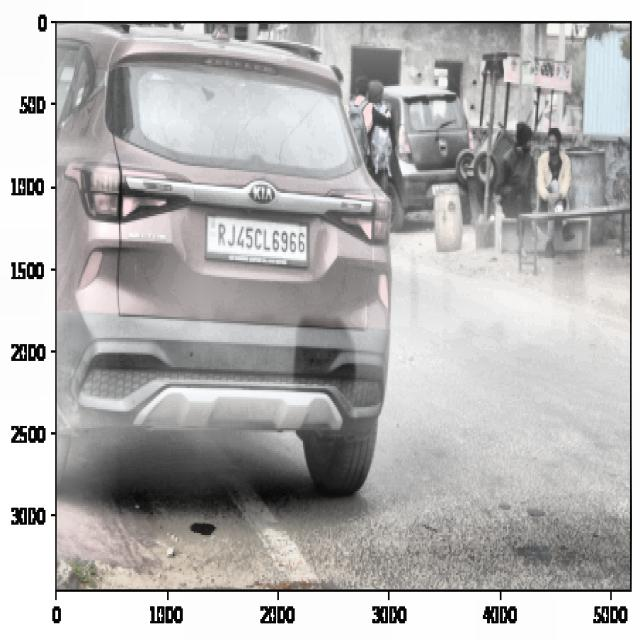license_plate: (211, 216, 308, 262)
